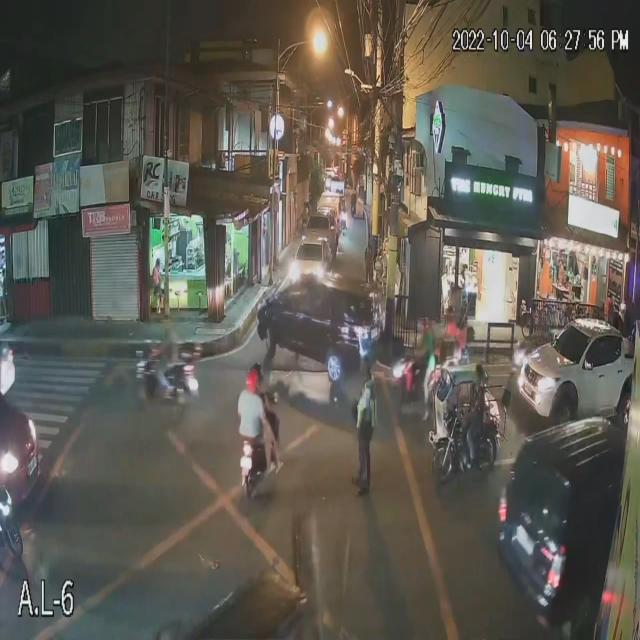Full-Faced: (421, 304, 434, 341), (445, 300, 457, 328)
